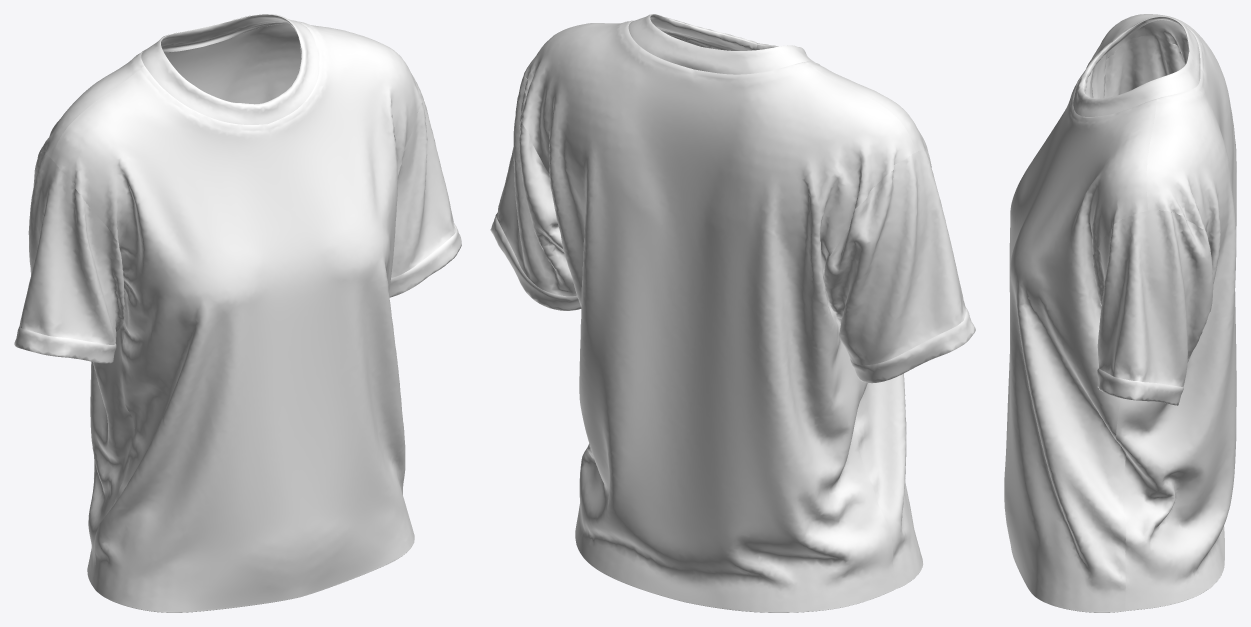
Rendered from modelo.glb.
The picture shows the model from 3 angles, left to right: view 1: azimuth 30°, elevation 25°; view 2: azimuth 150°, elevation 25°; view 3: azimuth 270°, elevation 25°; orthographic projection. The views are drawn at different scales.
Visible parts, largest first — view 1: Cloth; view 2: Cloth; view 3: Cloth.
Boxes of the visible parts, x1,y1,x2,y2 form: Cloth: (14, 14, 461, 612); Cloth: (490, 14, 975, 612); Cloth: (1004, 14, 1236, 612).
Bounding box in the file's own units: 0.5019 × 0.5531 × 0.2311.
Materials: 1 (1 with a texture image).
